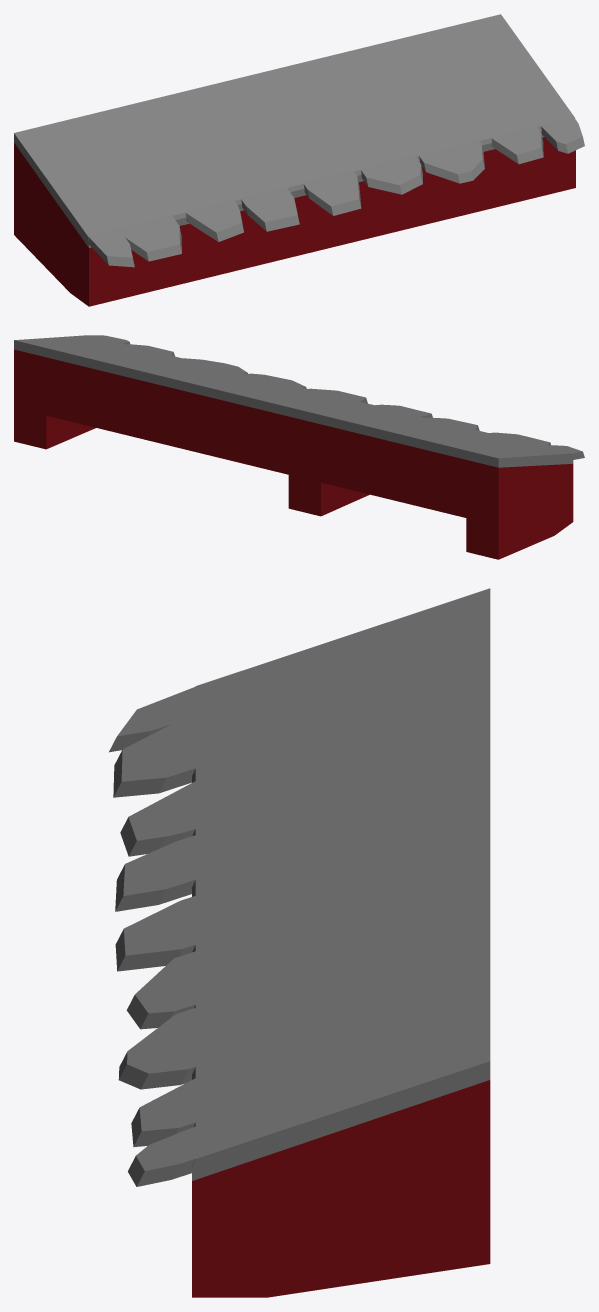
Rendered from SM_MH_01_Slate_Porch_Roof_End_Half_01.fbx.
The picture shows the model from 3 angles, top to bottom: view 1: azimuth 30°, elevation 25°; view 2: azimuth 150°, elevation 25°; view 3: azimuth 270°, elevation 25°; orthographic projection. The views are drawn at different scales.
Parts seen in each view (by area): view 1: SM_MH_01_Slate_Porch_Roof_End_Half_01_LOD0; view 2: SM_MH_01_Slate_Porch_Roof_End_Half_01_LOD0; view 3: SM_MH_01_Slate_Porch_Roof_End_Half_01_LOD0.
Boxes of the visible parts, <box> form: SM_MH_01_Slate_Porch_Roof_End_Half_01_LOD0: <box>14,14,584,306</box>; SM_MH_01_Slate_Porch_Roof_End_Half_01_LOD0: <box>14,335,584,559</box>; SM_MH_01_Slate_Porch_Roof_End_Half_01_LOD0: <box>109,588,490,1297</box>.
Size of what is drawn, in the model's own units: 150 by 35 by 51.16.
